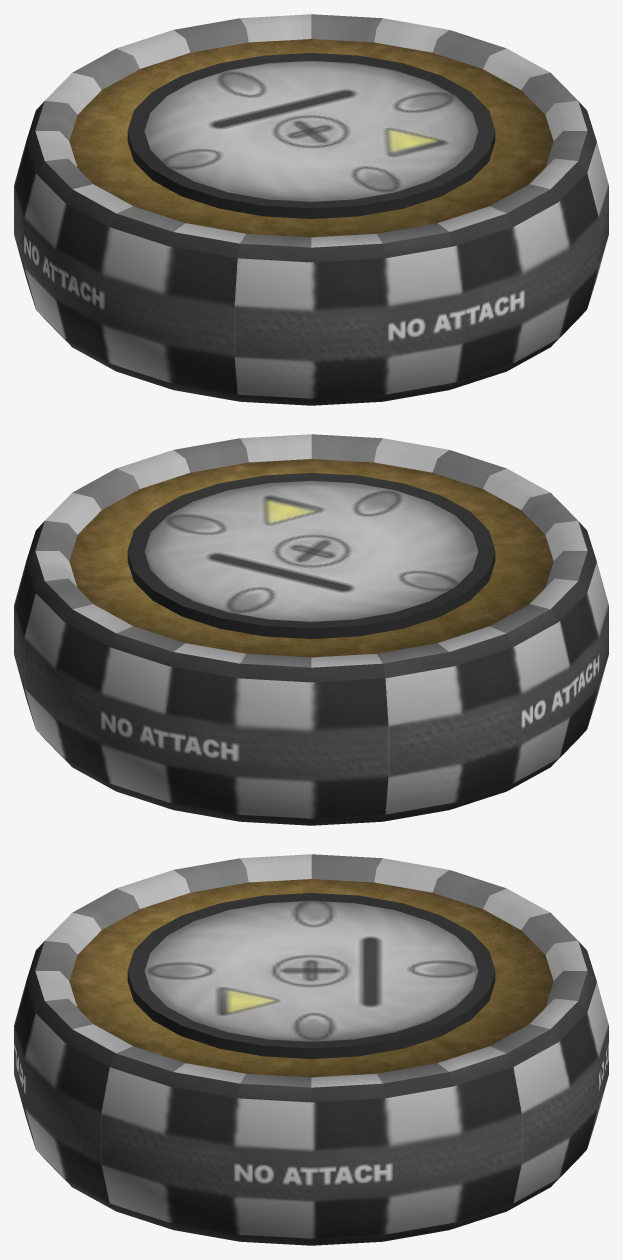
The model's file is CounterTorqueRing.FBX.
3 renders of one model, top to bottom at view 1: azimuth 30°, elevation 25°; view 2: azimuth 150°, elevation 25°; view 3: azimuth 270°, elevation 25°, orthographic.
Visible parts, largest first — view 1: CounterSpinSection, EndCap004; view 2: CounterSpinSection, EndCap004; view 3: CounterSpinSection, EndCap004.
Boxes of the visible parts, x1,y1,x2,y2 form: CounterSpinSection: (14, 14, 608, 405); EndCap004: (127, 53, 495, 218); CounterSpinSection: (14, 434, 608, 825); EndCap004: (127, 473, 495, 638); CounterSpinSection: (14, 854, 608, 1245); EndCap004: (127, 893, 495, 1058).
Size of what is drawn, in the model's own units: 2.02 by 2.02 by 0.5951.
Materials: 1 (1 with a texture image).
